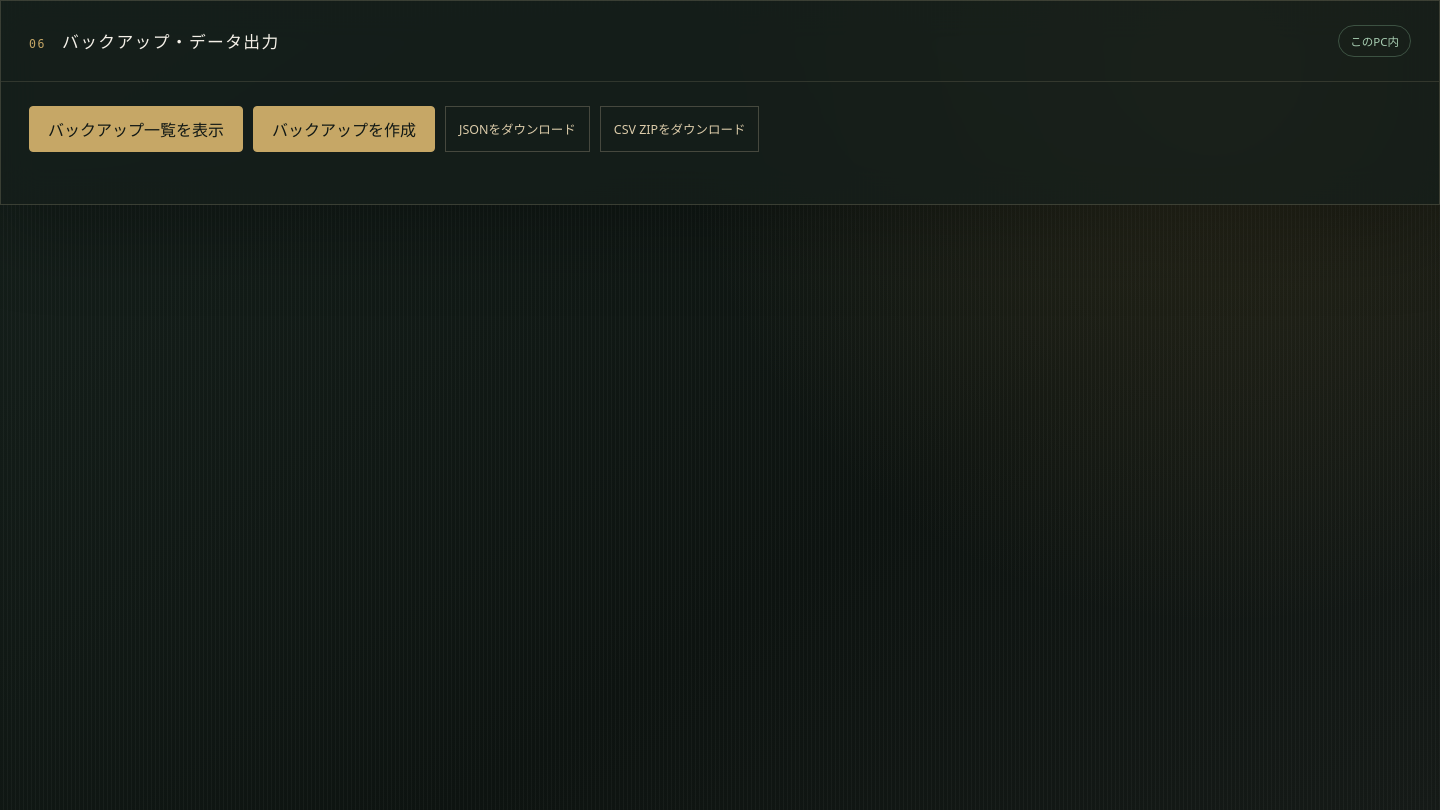
Scenario: creates, verifies, and restores a backup while keeping exports downloadable
What coordinates should you click on to do the following:
click the button "バックアップ一覧を表示"
I would click on:
 (136, 129)
Its box is x1=29 y1=106 x2=243 y2=152.
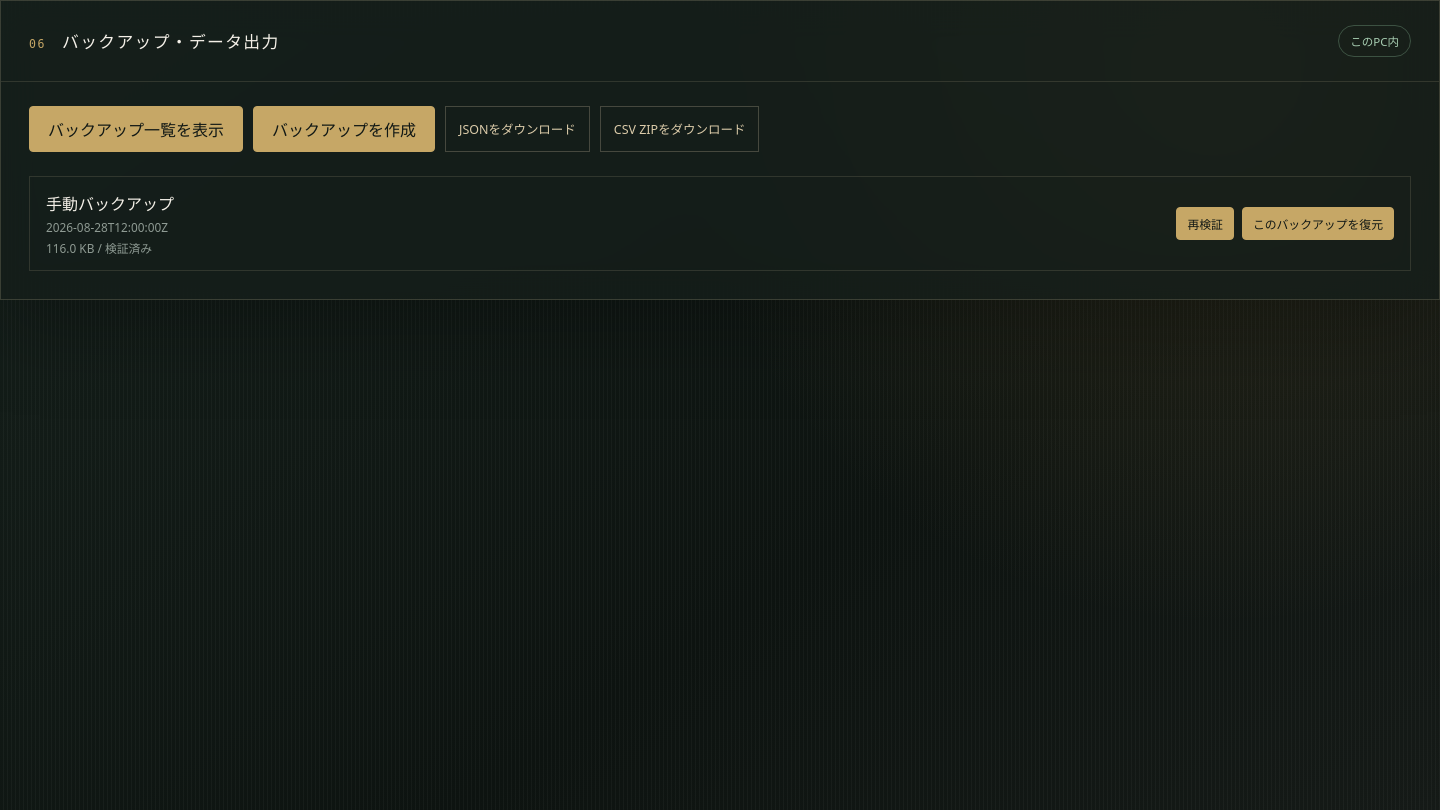
Check: the text "2026-08-28T12:00:00Z" is shown, box x1=46 y1=219 x2=174 y2=235
What coordinates should you click on to do the following:
click the button "バックアップを作成"
I would click on:
 (344, 129)
Its box is x1=253 y1=106 x2=435 y2=152.
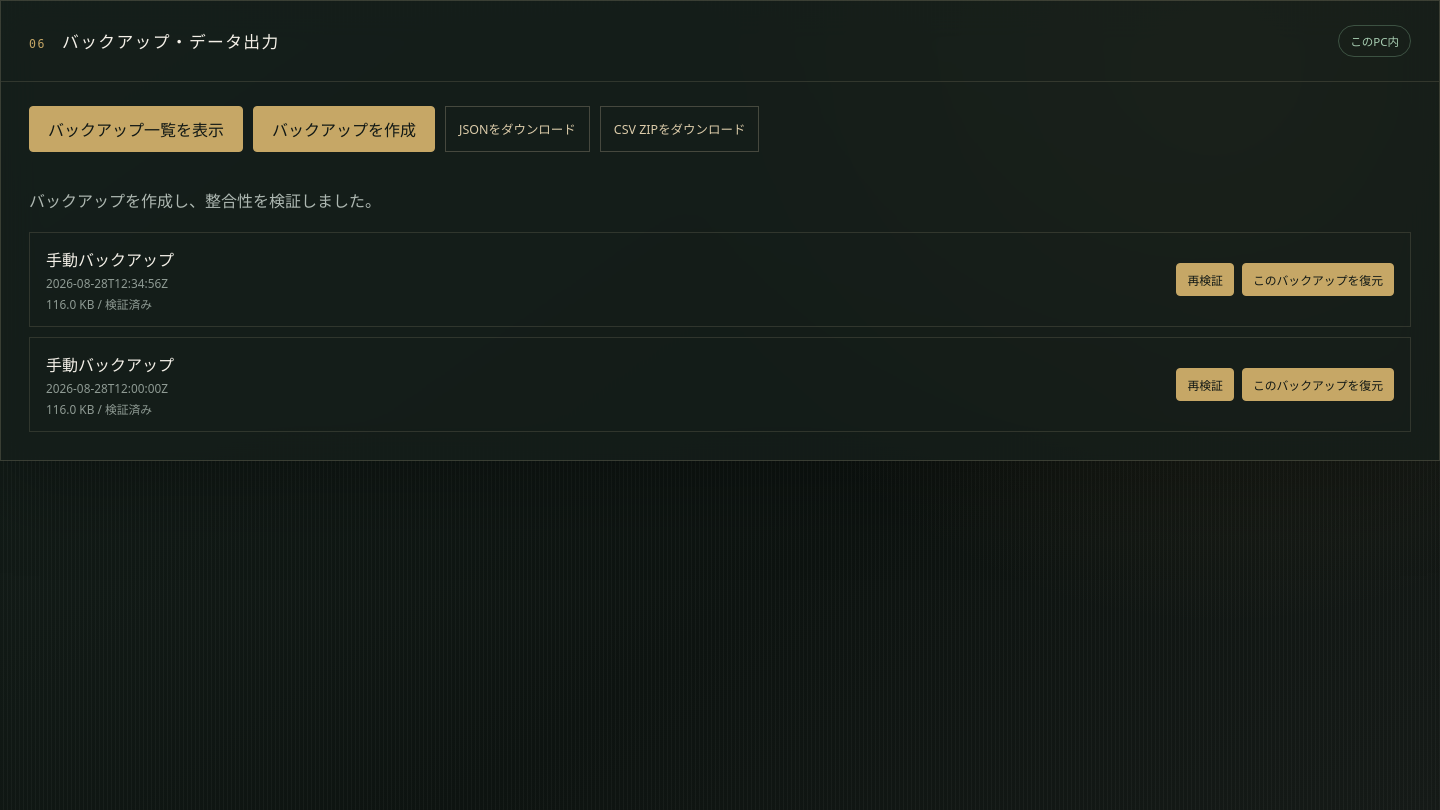
What coordinates should you click on to do the following:
click the button "再検証" in the row of "2026-08-28T12:34:56Z"
I would click on:
 (1205, 280)
Its box is x1=1176 y1=263 x2=1234 y2=296.
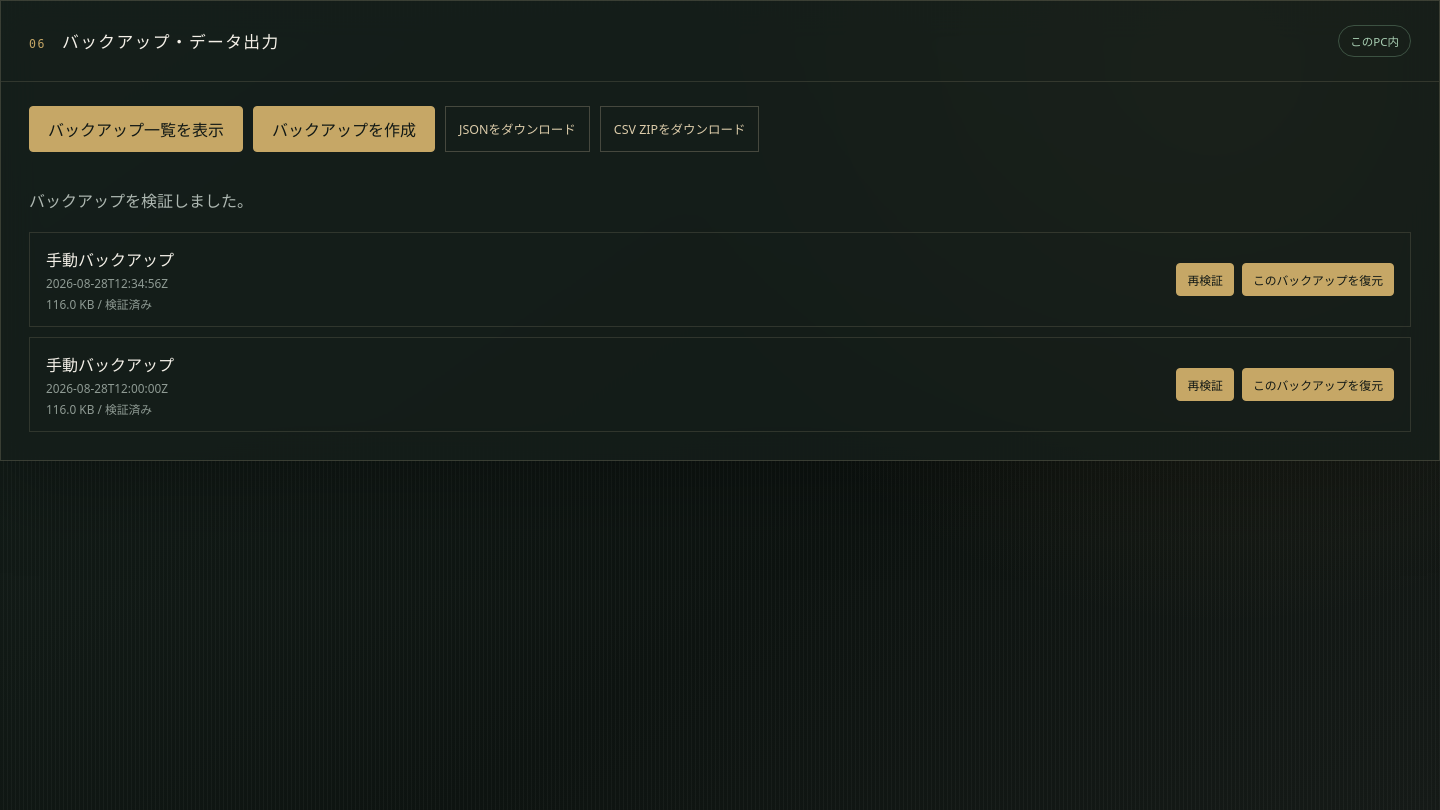
Check: the message reads "バックアップを検証しました。", box x1=29 y1=190 x2=253 y2=212
What coordinates should you click on to do the following:
click the button "このバックアップを復元" in the row of "2026-08-28T12:34:56Z"
I would click on:
 (1318, 280)
Its box is x1=1242 y1=263 x2=1394 y2=296.
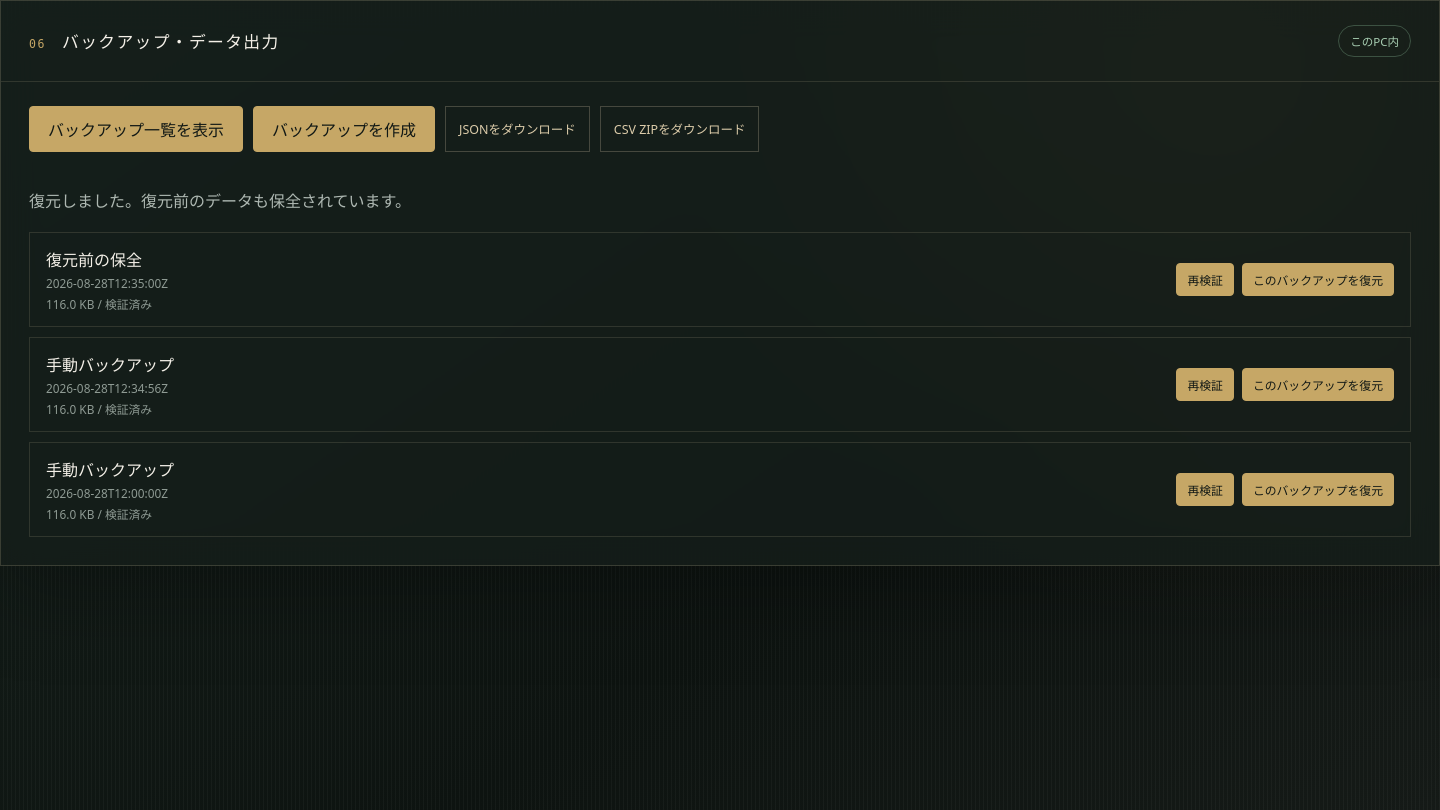
Check: the message reads "復元しました。復元前のデータも保全されています。", box x1=29 y1=190 x2=411 y2=212
